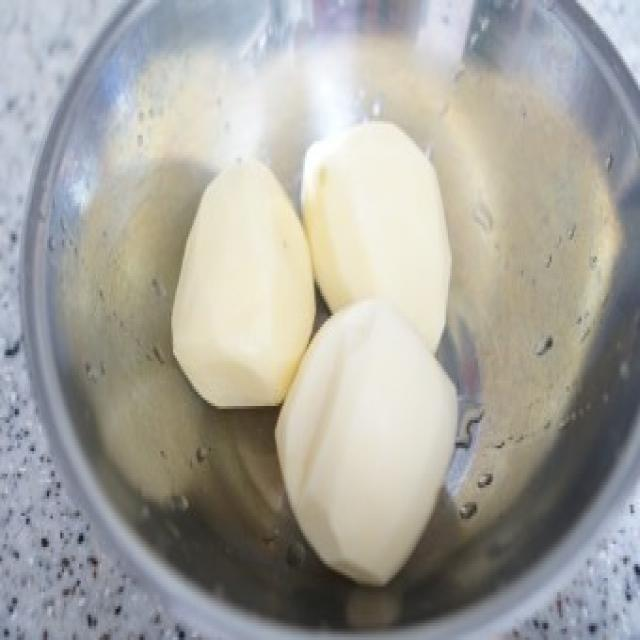potato: (274, 288, 462, 586), (296, 116, 456, 364), (170, 151, 316, 414)
